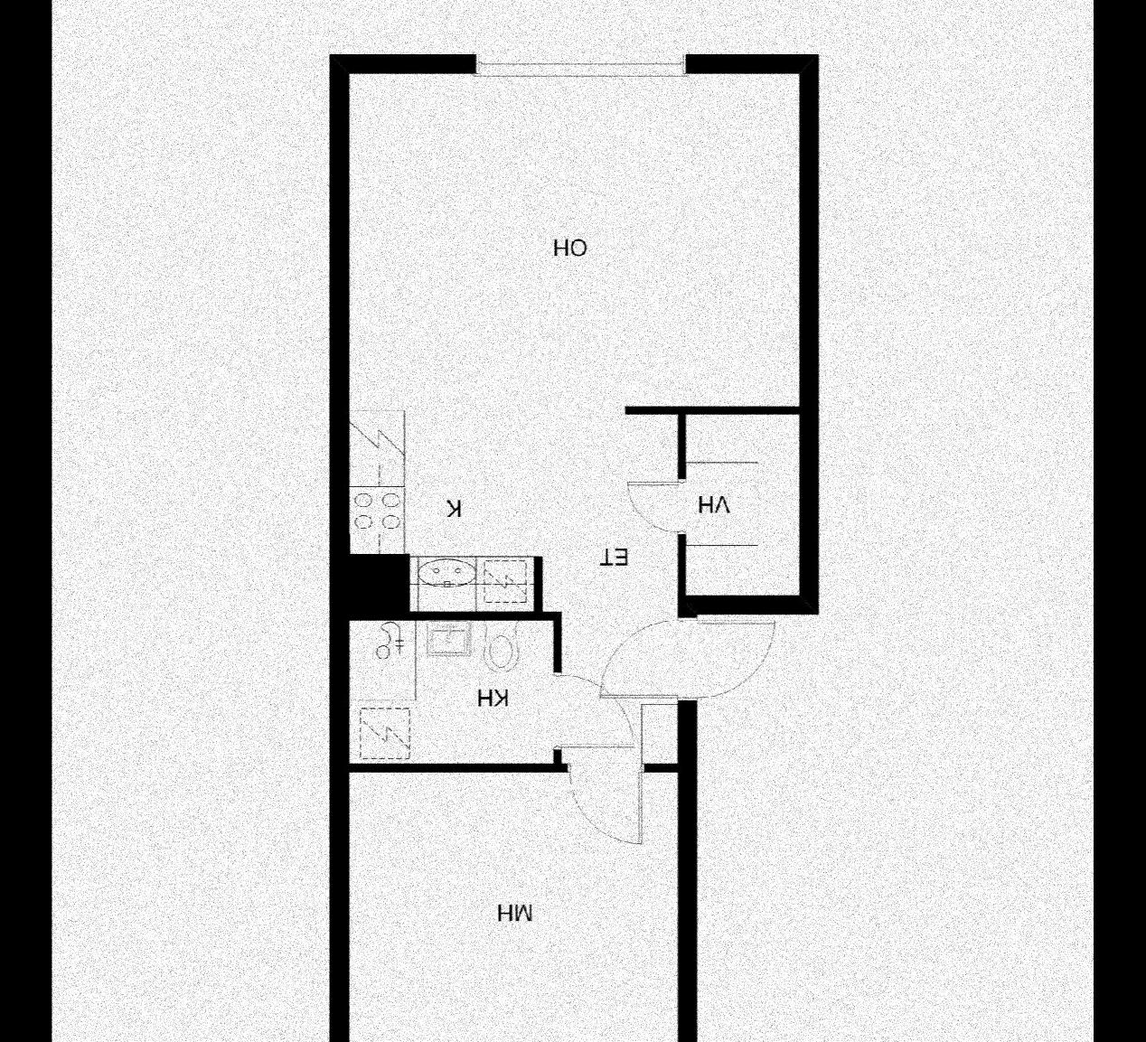door: (604, 608, 784, 707), (543, 762, 657, 854), (544, 675, 642, 754), (618, 479, 695, 533)
window: (475, 53, 683, 75)
zone: (346, 72, 798, 762), (350, 772, 679, 1042), (340, 620, 552, 760)
